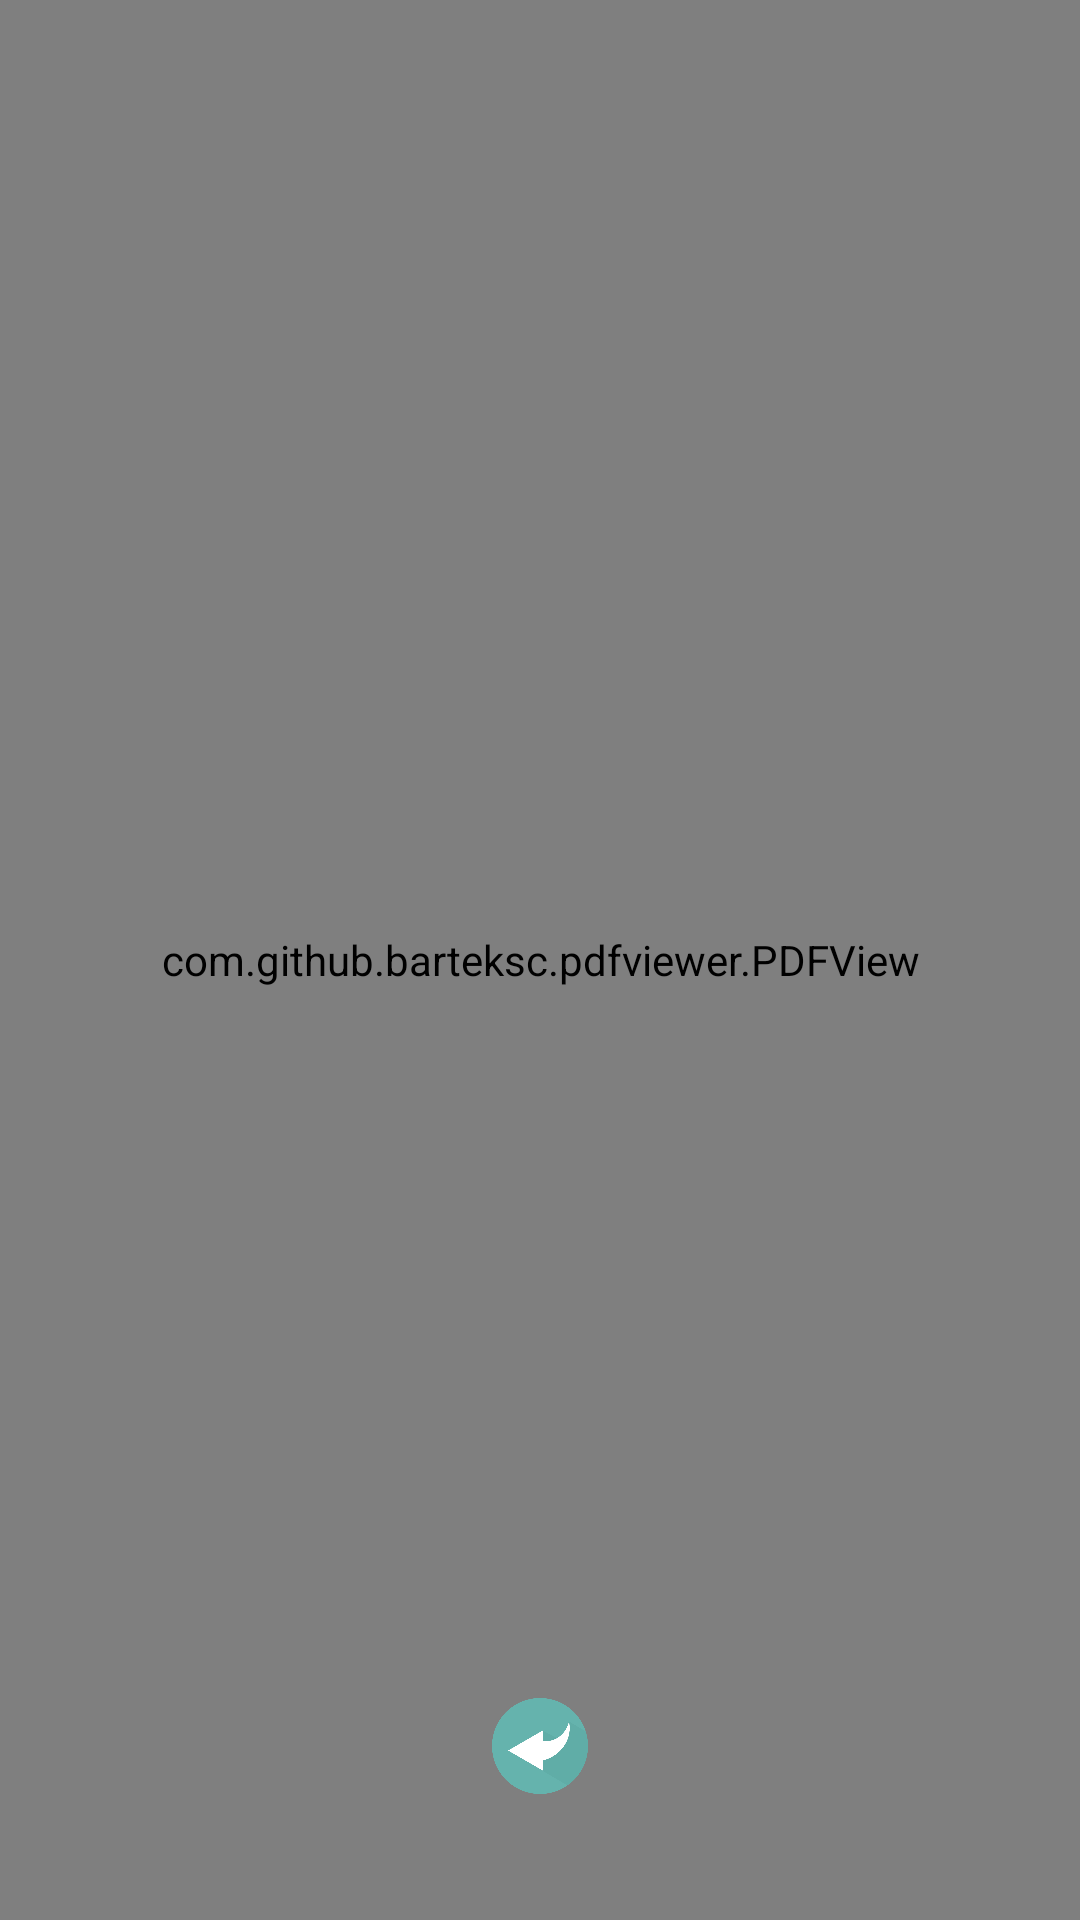

Icons on this 1080 x 1920 Android screen, each with the point to tap as [x,y]:
exit: [540,1746]
